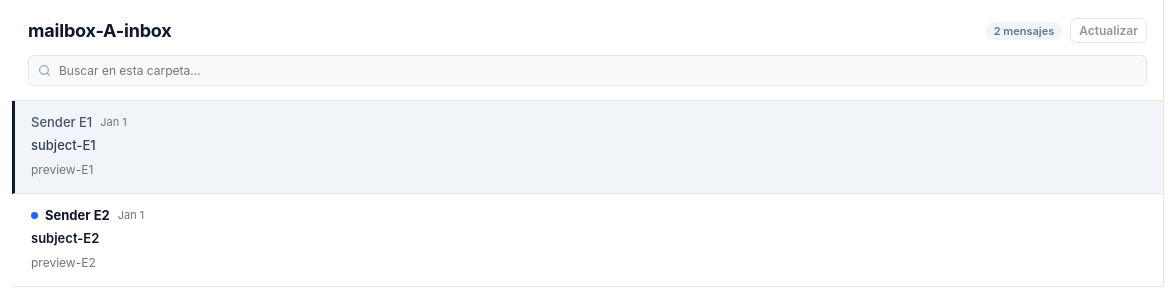
it: Presentation and UI shell components › MessageList › filters the materialized local window without inventing coverage
The image size is (1176, 304).
Type "subject-E2" into the field with class "message-list__search-input" at (588, 70), box [28,55,1147,86]
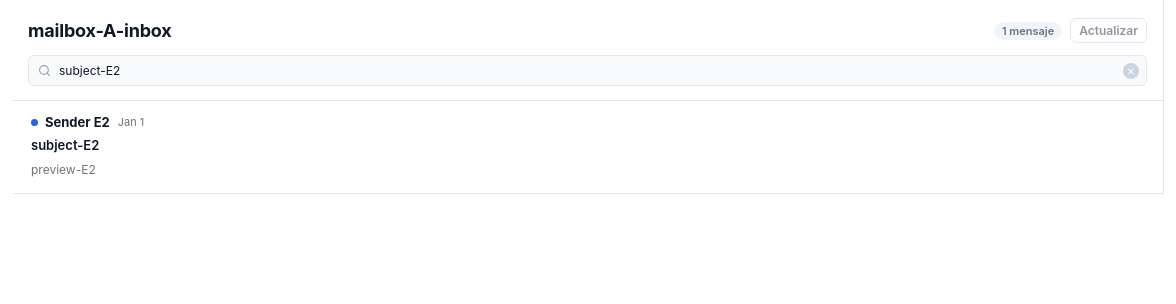
Expected: the text "subject-E2" is shown, [31,137,99,153]
Now the number of buttons with class "message-item" is 1, box [12,101,1163,194]
